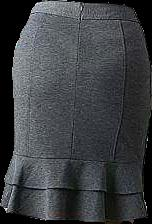Hemline: (0, 203, 147, 222), (3, 179, 144, 194)
Waistline: (29, 12, 140, 23), (13, 153, 143, 162), (33, 0, 132, 9)
